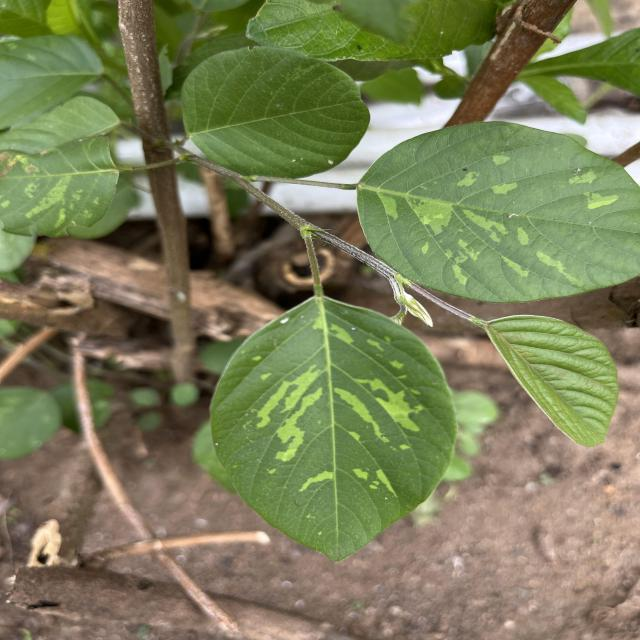Desmodium gangeticum: (206, 294, 459, 563), (352, 119, 640, 308)
